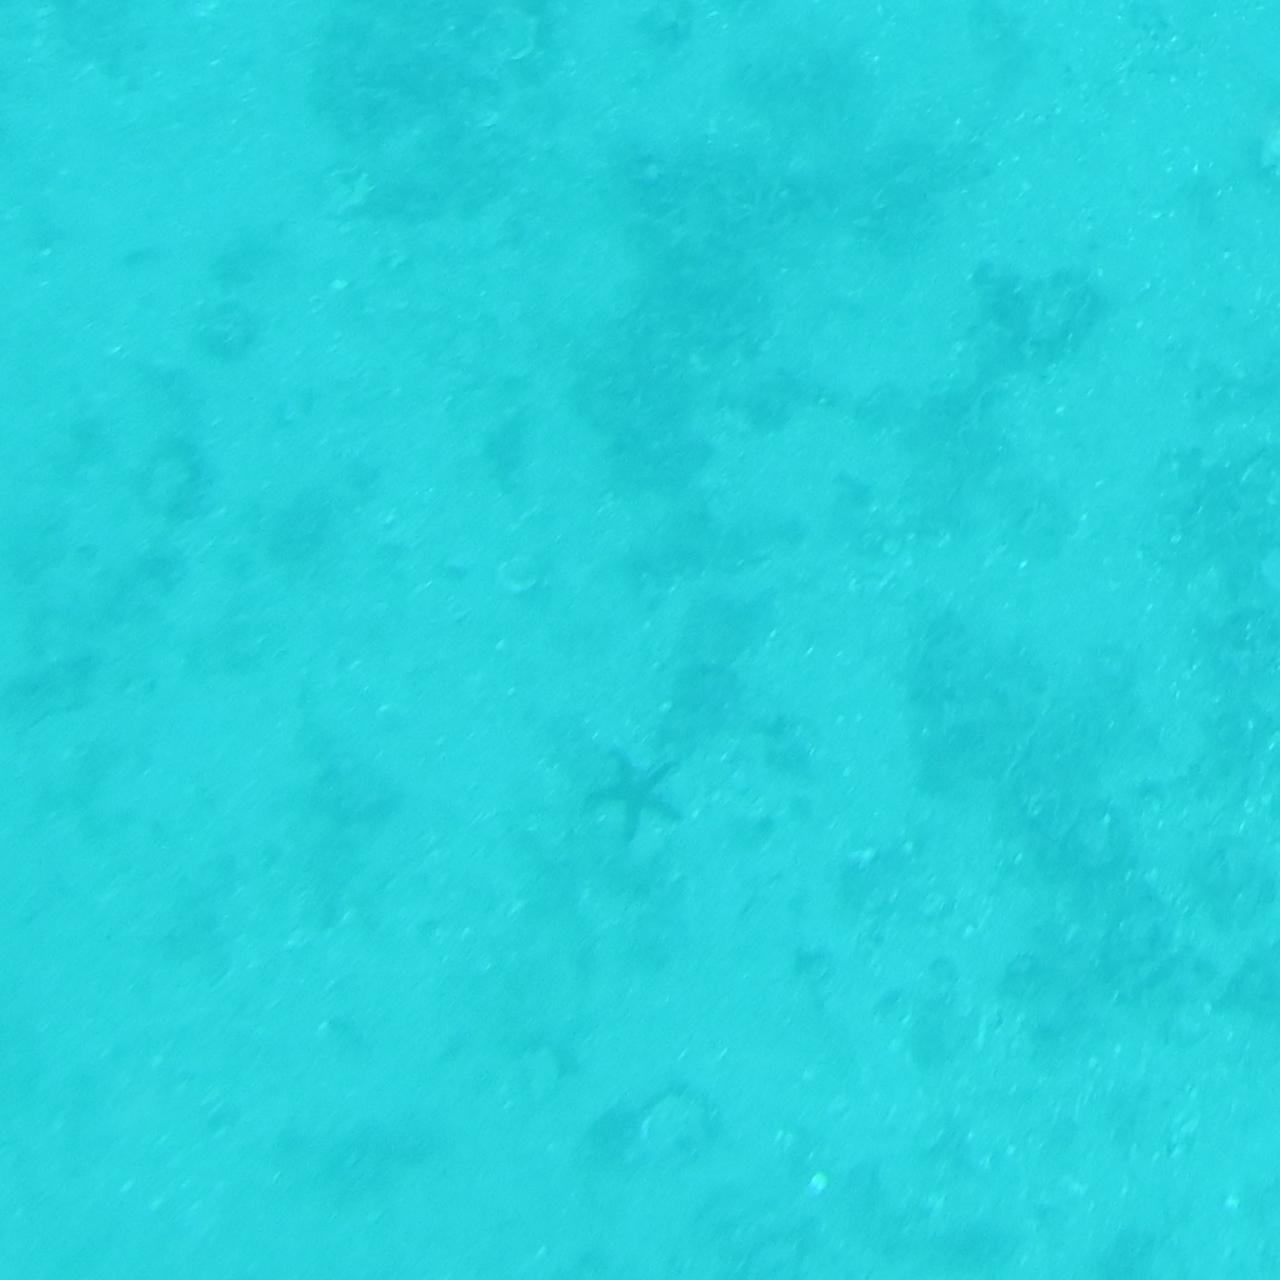Asteroidea: (579, 726, 701, 872)
